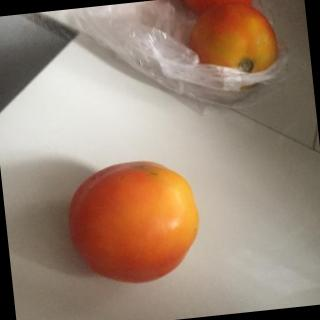Tomat: (53, 150, 213, 296)
